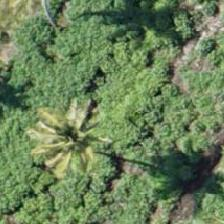coconut_tree: (20, 95, 110, 185)
